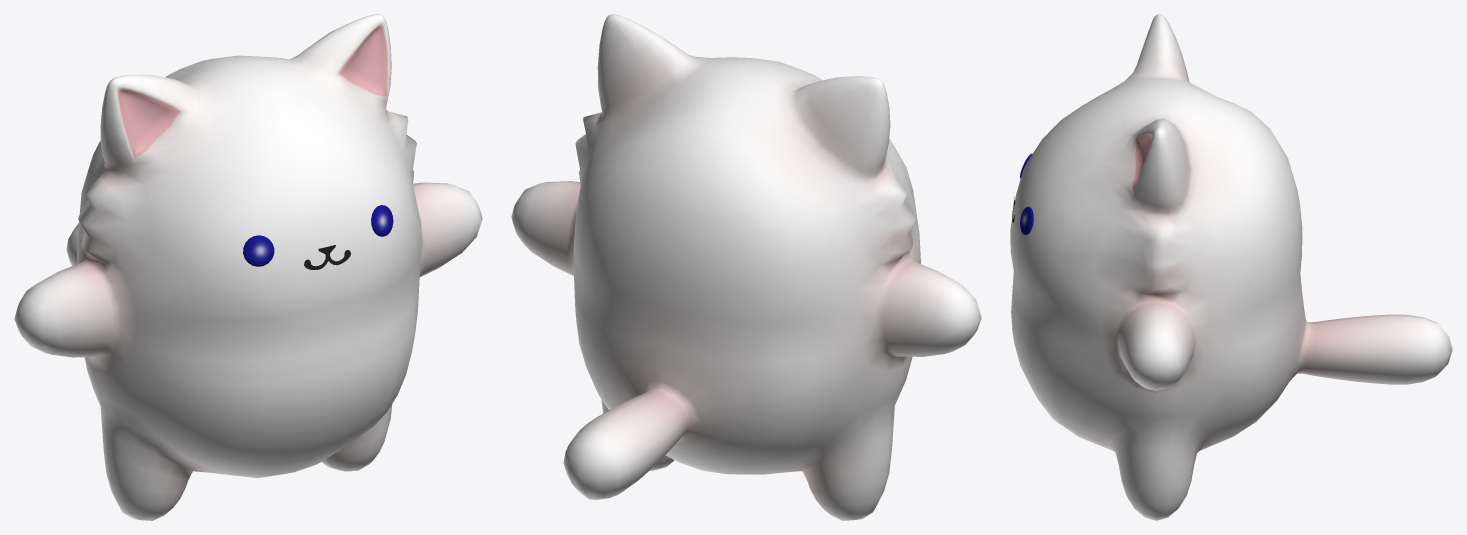
The model's file is Standing_Cat.fbx.
3 views of the same model, side by side, from view 1: azimuth 30°, elevation 25°; view 2: azimuth 150°, elevation 25°; view 3: azimuth 270°, elevation 25° (orthographic). The views are drawn at different scales.
Parts seen in each view (by area): view 1: Standing_Cat; view 2: Standing_Cat; view 3: Standing_Cat.
Part boxes in pixels (box(x1,y1,x2,y2)): Standing_Cat: box(14, 14, 482, 520); Standing_Cat: box(511, 14, 981, 520); Standing_Cat: box(1010, 14, 1452, 520).
Size of the model in its own units: 43.79 by 40.68 by 40.59.
1 material, 1 textured.
